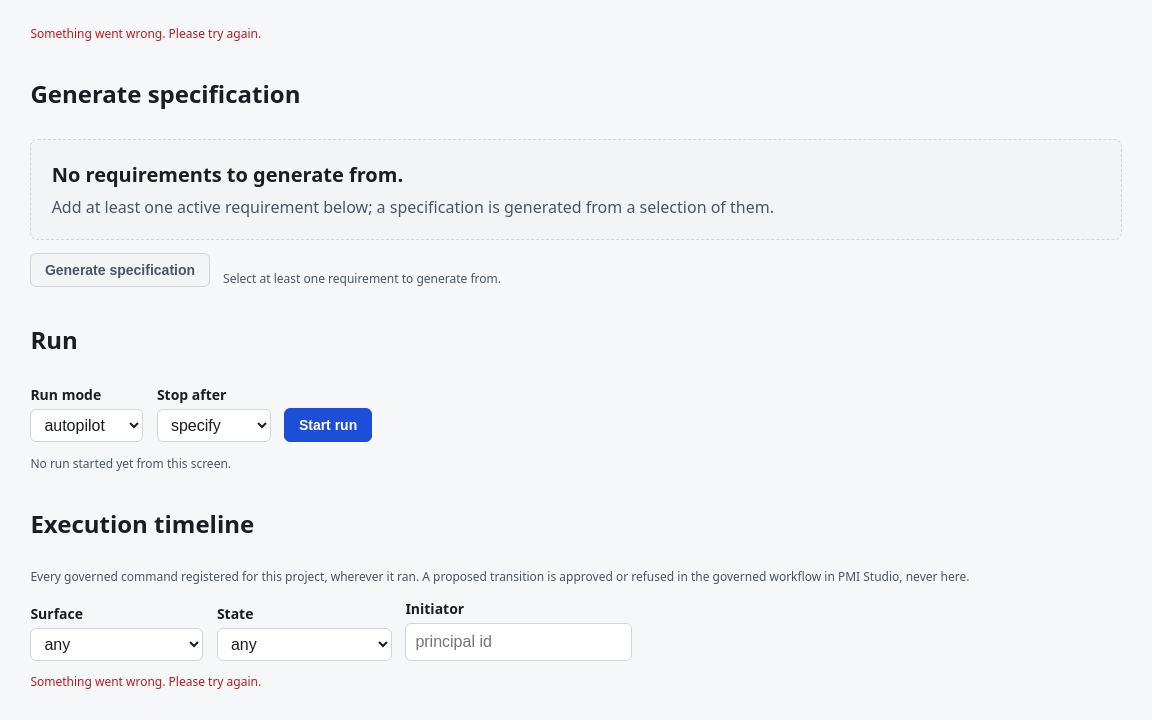
T1394 · Start run › the four FR-SHL-060 states: ready, loading, error, empty
The width and height of the screenshot is (1152, 720).
(page scrolled)
Check: the text "No run started yet from this screen." is shown, box [30,454,231,472]
Click the button "Start run" at (328, 425), box [284,408,372,442]
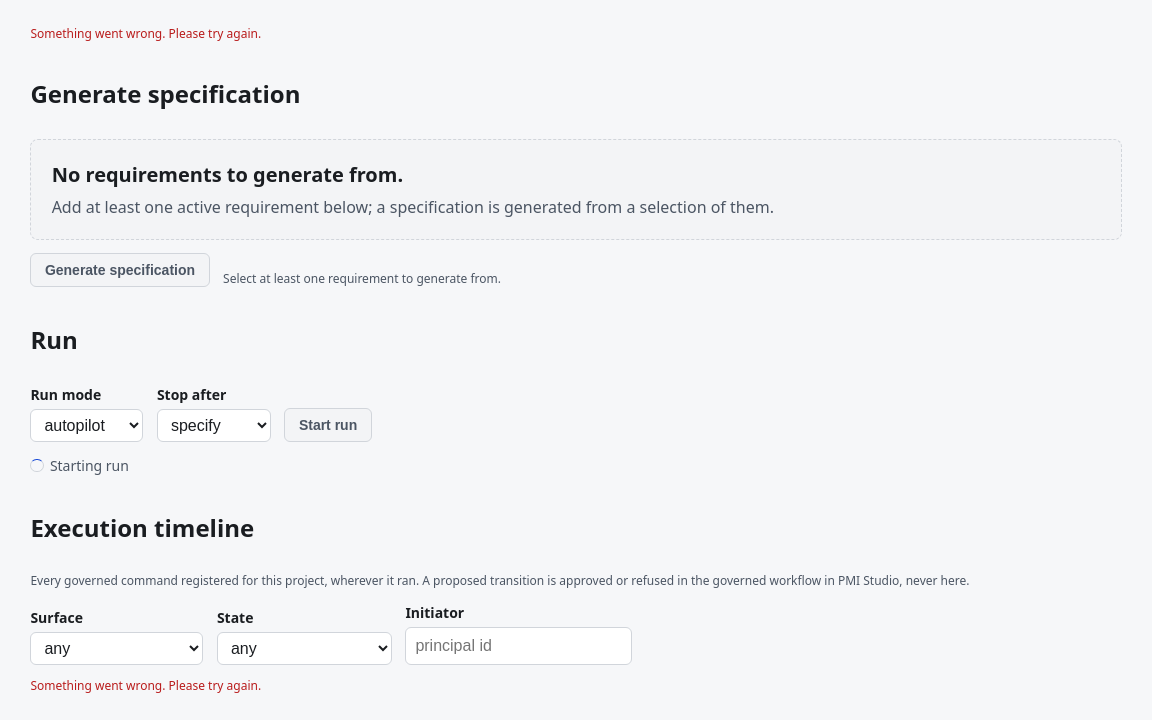
Check: the text "Starting run" is shown, box [50,456,129,476]
